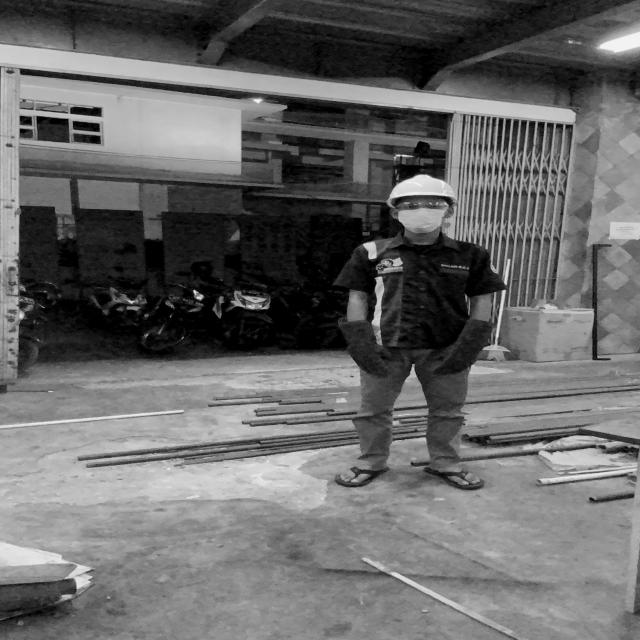face_mask: (389, 198, 456, 236)
glasses: (392, 200, 451, 213)
hand_glove: (428, 316, 501, 378), (328, 315, 396, 379)
head_helmet: (385, 171, 459, 202)
